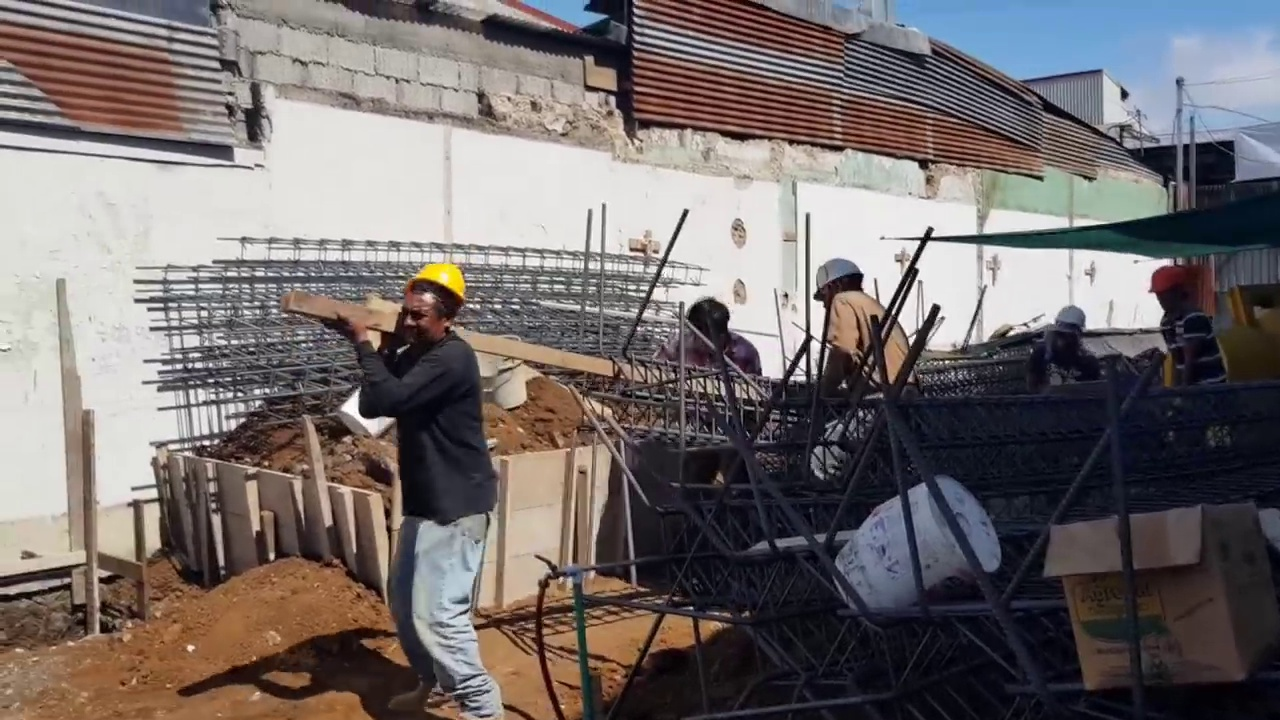helmet: (400, 265, 468, 306), (812, 257, 865, 299), (1148, 264, 1200, 300), (1053, 309, 1089, 332)
helmet-off: (680, 296, 735, 365)
helmet-on: (395, 265, 466, 350), (1146, 262, 1200, 324), (812, 255, 865, 313), (1051, 308, 1089, 342)
person: (303, 262, 498, 708), (660, 293, 766, 490), (812, 255, 906, 399), (1147, 262, 1229, 390), (1025, 312, 1104, 395)
